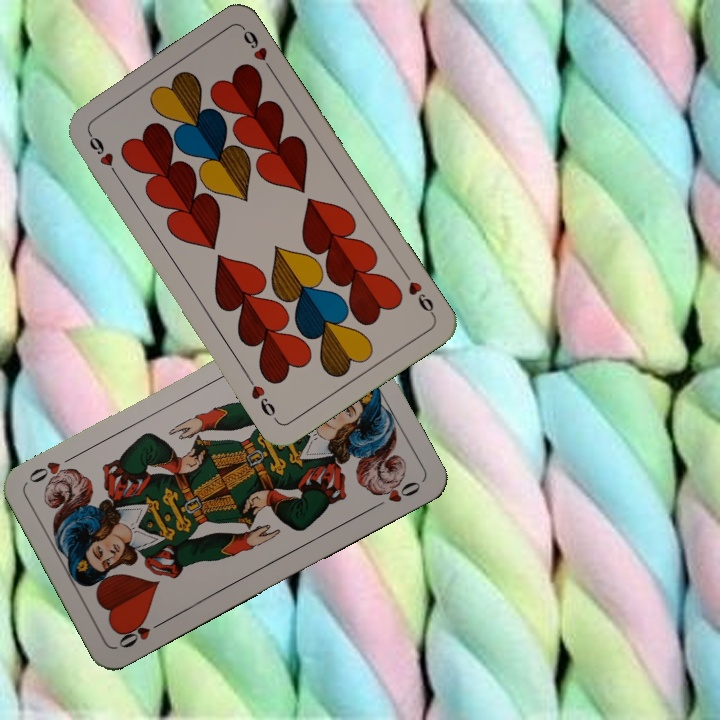H9: (399, 267, 438, 319), (84, 128, 122, 181)
HO: (114, 616, 168, 651)
